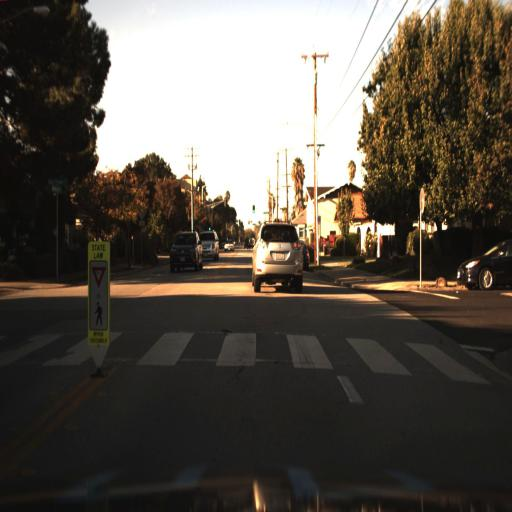car: (247, 218, 302, 294), (457, 238, 511, 294), (167, 222, 206, 276), (202, 224, 222, 266), (298, 228, 312, 281)
